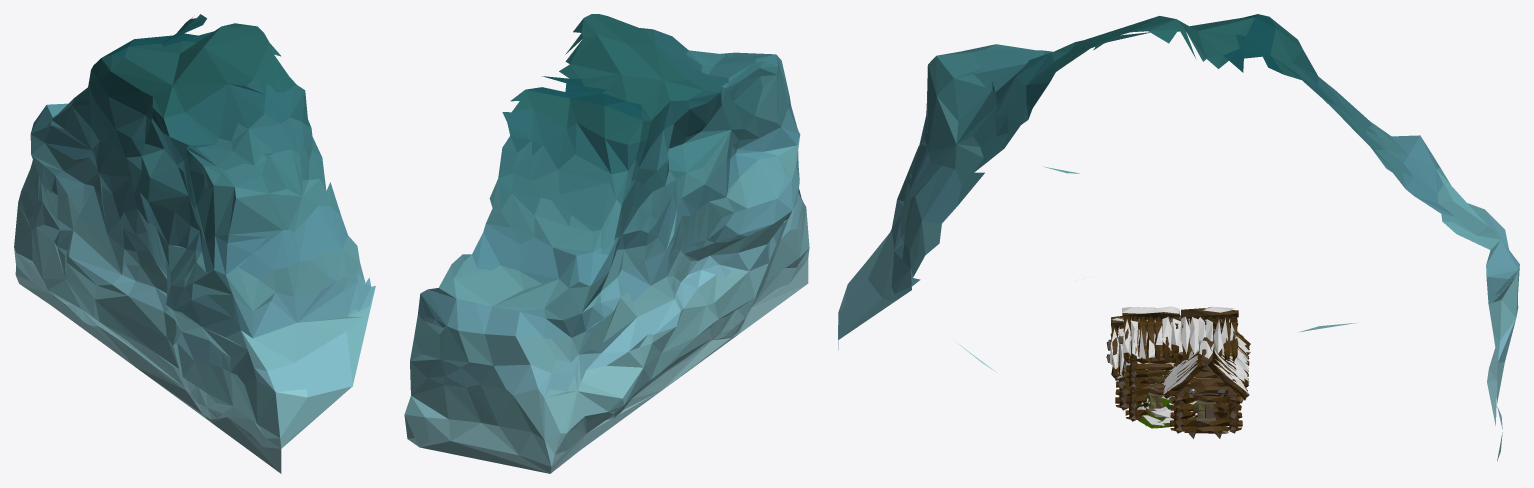
File: tundra-v1.glb
3 views of the same model, side by side, from view 1: azimuth 30°, elevation 25°; view 2: azimuth 150°, elevation 25°; view 3: azimuth 270°, elevation 25° (orthographic). The views are drawn at different scales.
Visible parts, largest first — view 1: icecliff; view 2: icecliff; view 3: icecliff, cabin3, cabin1.
Part boxes in pixels (bbox=[...]): icecliff: bbox=[14, 14, 375, 473]; icecliff: bbox=[404, 14, 809, 473]; icecliff: bbox=[838, 14, 1519, 461]; cabin3: bbox=[1117, 306, 1238, 426]; cabin1: bbox=[1106, 316, 1250, 438].
Bounding box in the file's own units: 19.72 × 33.64 × 49.6.
